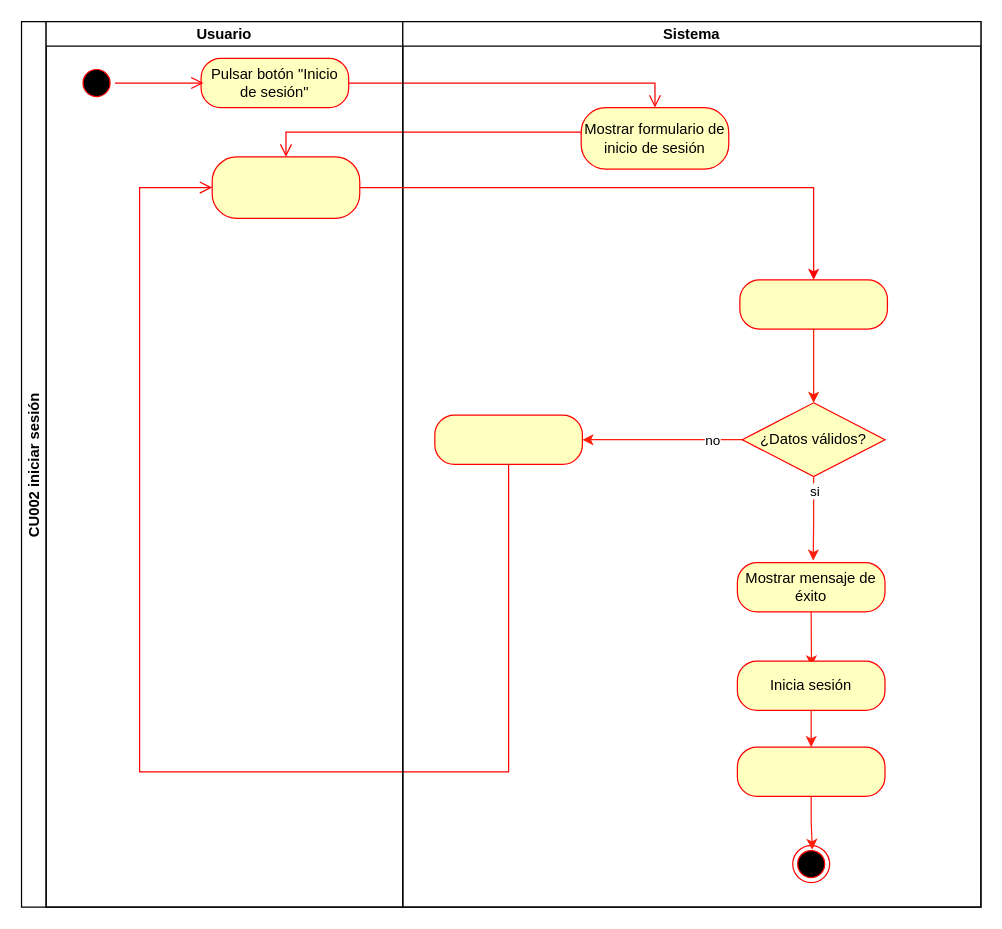
This 1002x929 diagram has some shape labels left out. Here are the shapes that lost their labels. From the top down, the centre of each, then its label:
the point at 285,187: Diligenciar el formulario
the point at 813,304: Validar datos
the point at 508,439: Mostrar mensaje de error
the point at 810,771: Redirige a página principal
